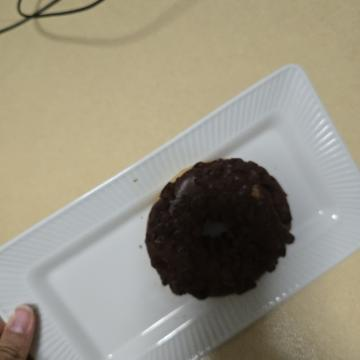doughnut: (141, 56, 310, 224)
